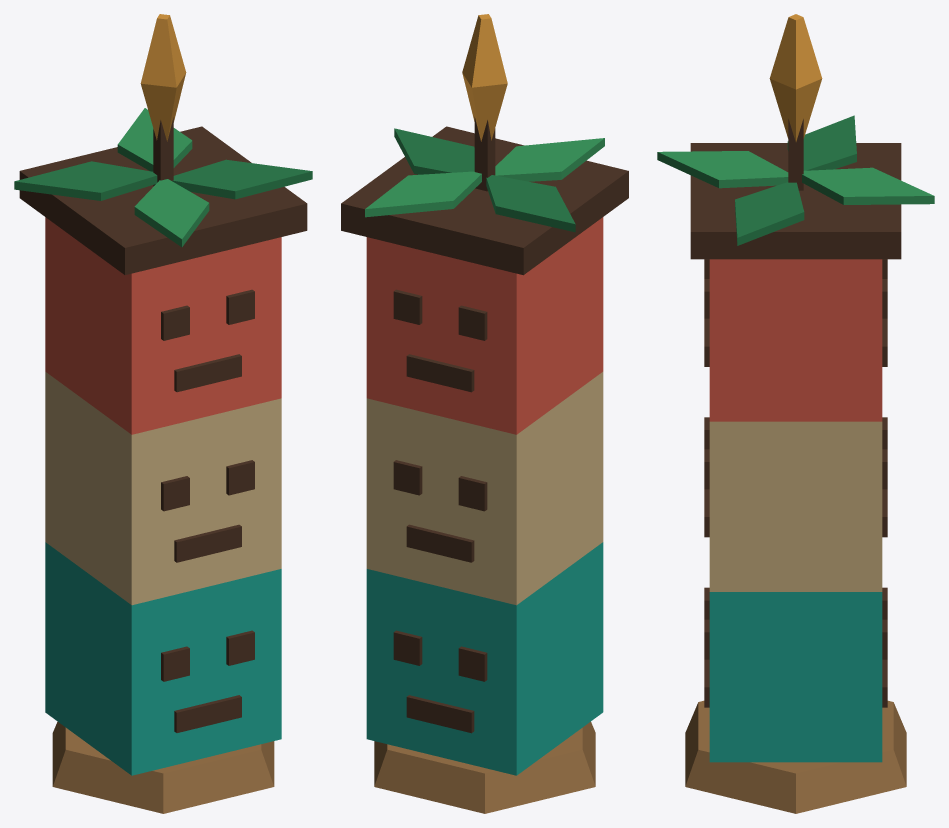
Rendered from towerB.glb.
The picture shows the model from 3 angles, left to right: view 1: azimuth 30°, elevation 25°; view 2: azimuth 150°, elevation 25°; view 3: azimuth 270°, elevation 25°; orthographic projection.
Parts seen in each view (by area): view 1: palmCove-towerB; view 2: palmCove-towerB; view 3: palmCove-towerB.
Boxes of the visible parts, bbox=[...] form: palmCove-towerB: bbox=[14, 14, 312, 813]; palmCove-towerB: bbox=[341, 14, 628, 813]; palmCove-towerB: bbox=[657, 14, 934, 813].
Bounding box in the file's own units: 0.3684 × 1.09 × 0.3684.
